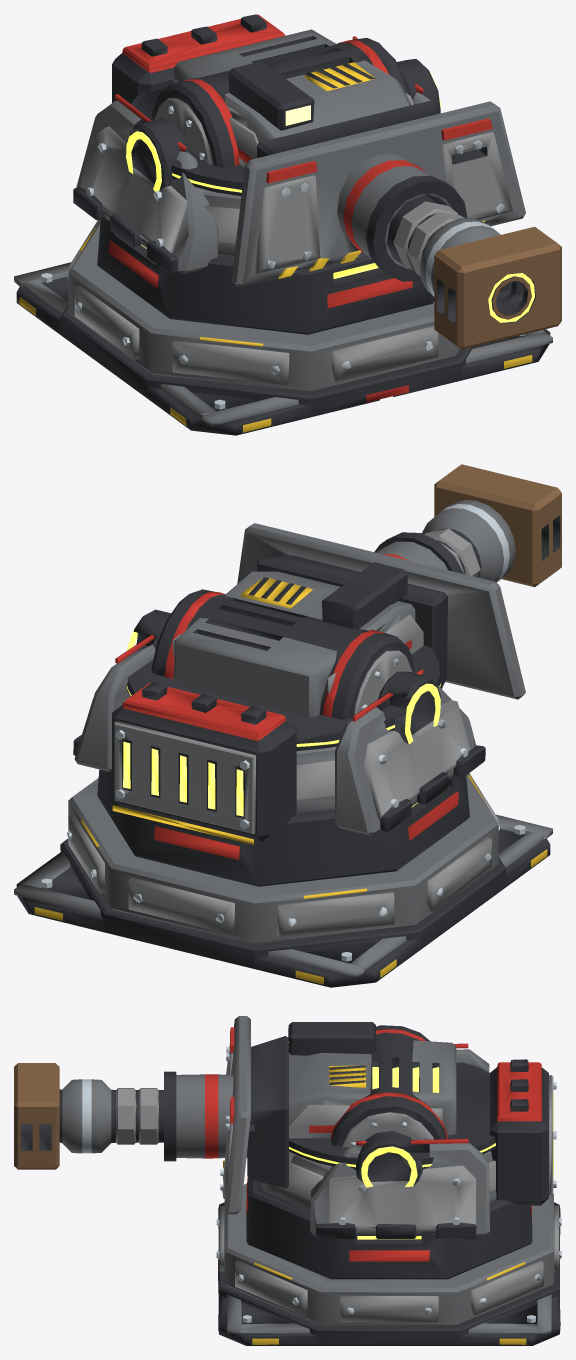
The model's file is R4W_Heavy_LOD1.fbx.
3 renders of one model, top to bottom at view 1: azimuth 30°, elevation 25°; view 2: azimuth 150°, elevation 25°; view 3: azimuth 270°, elevation 25°, orthographic. The views are drawn at different scales.
Parts seen in each view (by area): view 1: R4W_Heavy_Base_LOD1, R4W_Heavy_Pitch_LOD1, R4W_Heavy_Yaw_LOD1, R4W_Heavy_Barrel_LOD1; view 2: R4W_Heavy_Base_LOD1, R4W_Heavy_Pitch_LOD1, R4W_Heavy_Yaw_LOD1, R4W_Heavy_Barrel_LOD1; view 3: R4W_Heavy_Base_LOD1, R4W_Heavy_Pitch_LOD1, R4W_Heavy_Yaw_LOD1, R4W_Heavy_Barrel_LOD1.
Part boxes in pixels (x1=…): R4W_Heavy_Base_LOD1: x1=14, y1=88, x2=552, y2=435; R4W_Heavy_Pitch_LOD1: x1=152, y1=29, x2=525, y2=287; R4W_Heavy_Yaw_LOD1: x1=73, y1=14, x2=440, y2=274; R4W_Heavy_Barrel_LOD1: x1=386, y1=195, x2=561, y2=349; R4W_Heavy_Base_LOD1: x1=14, y1=645, x2=552, y2=987; R4W_Heavy_Pitch_LOD1: x1=151, y1=523, x2=525, y2=719; R4W_Heavy_Yaw_LOD1: x1=73, y1=609, x2=485, y2=844; R4W_Heavy_Barrel_LOD1: x1=421, y1=464, x2=561, y2=587; R4W_Heavy_Base_LOD1: x1=216, y1=1062, x2=561, y2=1345; R4W_Heavy_Pitch_LOD1: x1=164, y1=1016, x2=456, y2=1214; R4W_Heavy_Yaw_LOD1: x1=310, y1=1043, x2=556, y2=1239; R4W_Heavy_Barrel_LOD1: x1=14, y1=1063, x2=163, y2=1169.
Bounding box in the file's own units: 0.515 × 0.375 × 0.8175.
